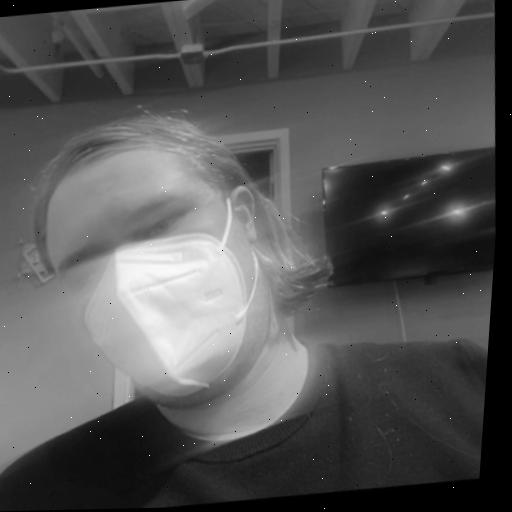mask: (0, 72, 370, 465)
